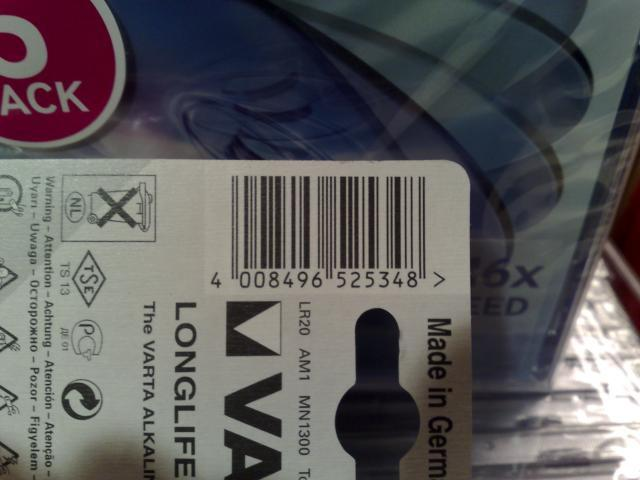Barcode: (200, 165, 458, 296)
